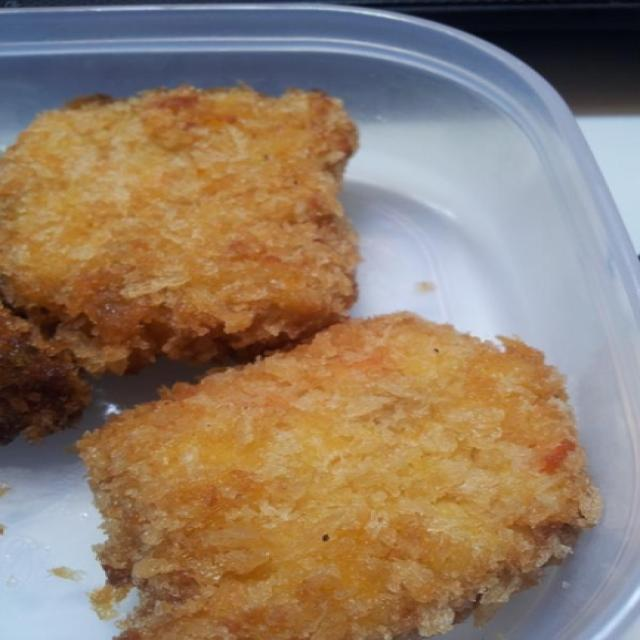鸡肉料理 含炸鸡: (9, 42, 596, 629)
